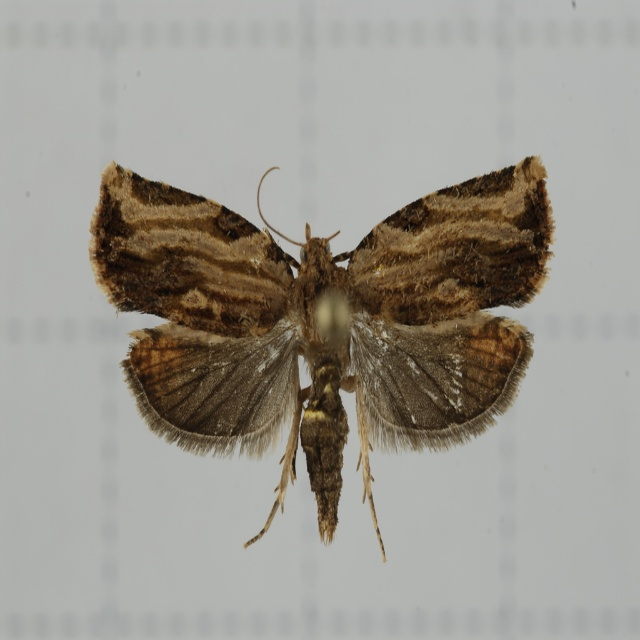Butterfly: (89, 153, 536, 561)
